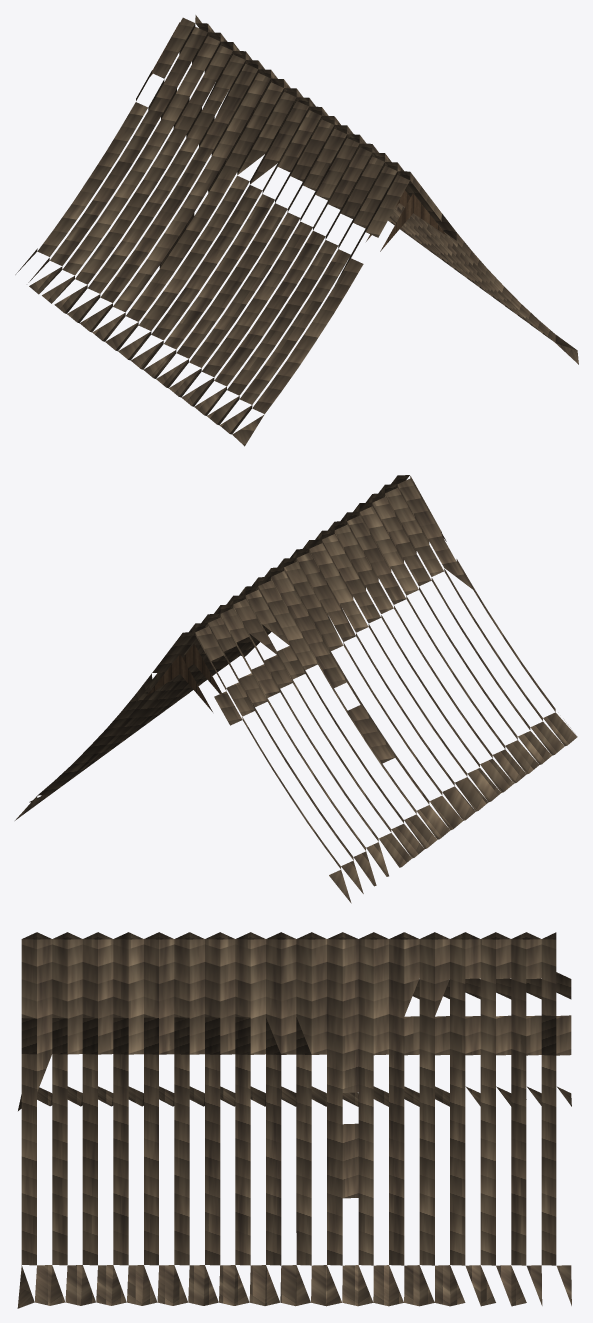
Rendered from Roof_Shingle_6x8_LOD1.gltf.
3 views of the same model, one above another, from view 1: azimuth 30°, elevation 25°; view 2: azimuth 150°, elevation 25°; view 3: azimuth 270°, elevation 25° (orthographic). The views are drawn at different scales.
Parts seen in each view (by area): view 1: Roof_Shingle_6x8_LOD1; view 2: Roof_Shingle_6x8_LOD1; view 3: Roof_Shingle_6x8_LOD1.
Part boxes in pixels (bbox=[...]): Roof_Shingle_6x8_LOD1: bbox=[15, 15, 578, 446]; Roof_Shingle_6x8_LOD1: bbox=[15, 475, 577, 903]; Roof_Shingle_6x8_LOD1: bbox=[17, 932, 571, 1308].
Size of the model in its own units: 8.25 by 5.17 by 9.66.
Materials: 2 (2 with a texture image).
